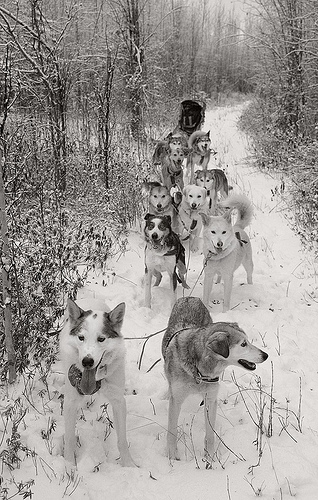dog: (161, 296, 267, 470), (55, 292, 131, 472), (195, 195, 252, 310), (140, 210, 186, 307), (148, 141, 187, 193), (145, 182, 180, 237), (194, 167, 235, 207), (190, 130, 214, 171)
